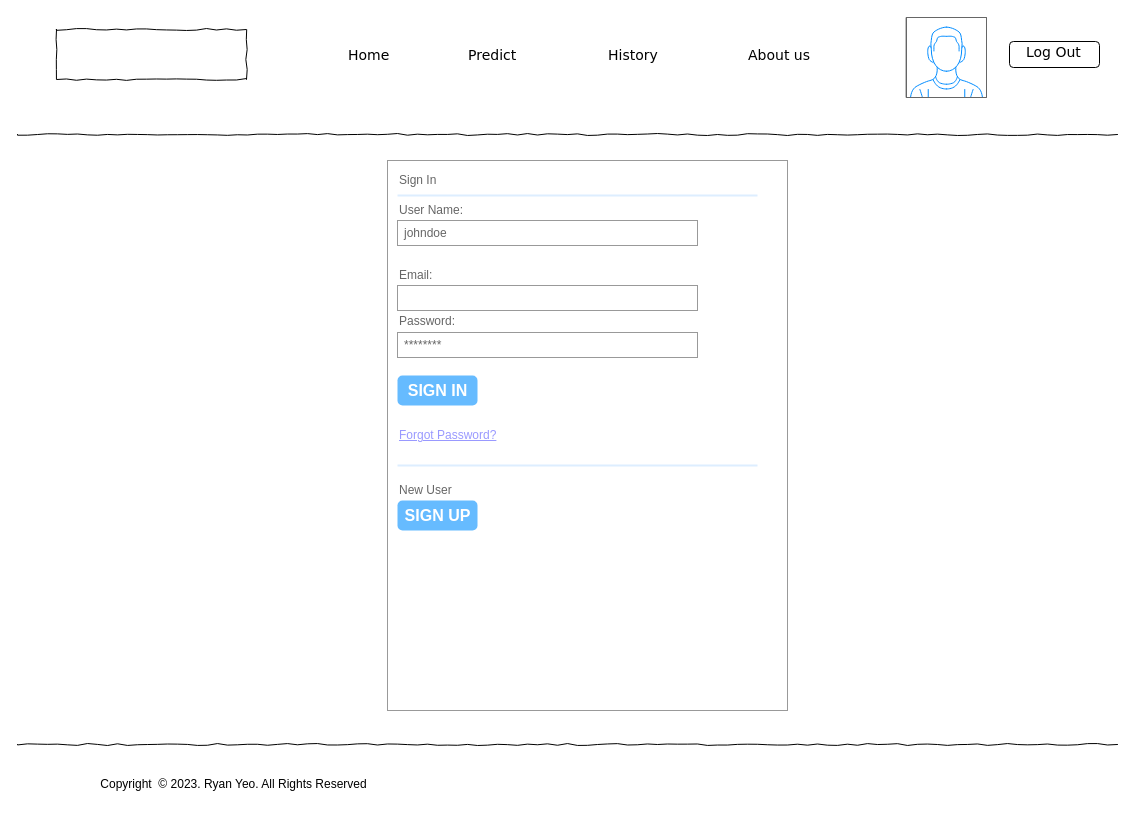
Image size: 1135x817. Some labels were removed from this diagram. The box of each missing label's shape, as (x1, y1, x2, y2) in pixels:
johndoe@gmail.com: (396, 284, 698, 310)
LOGO: (56, 28, 246, 80)
